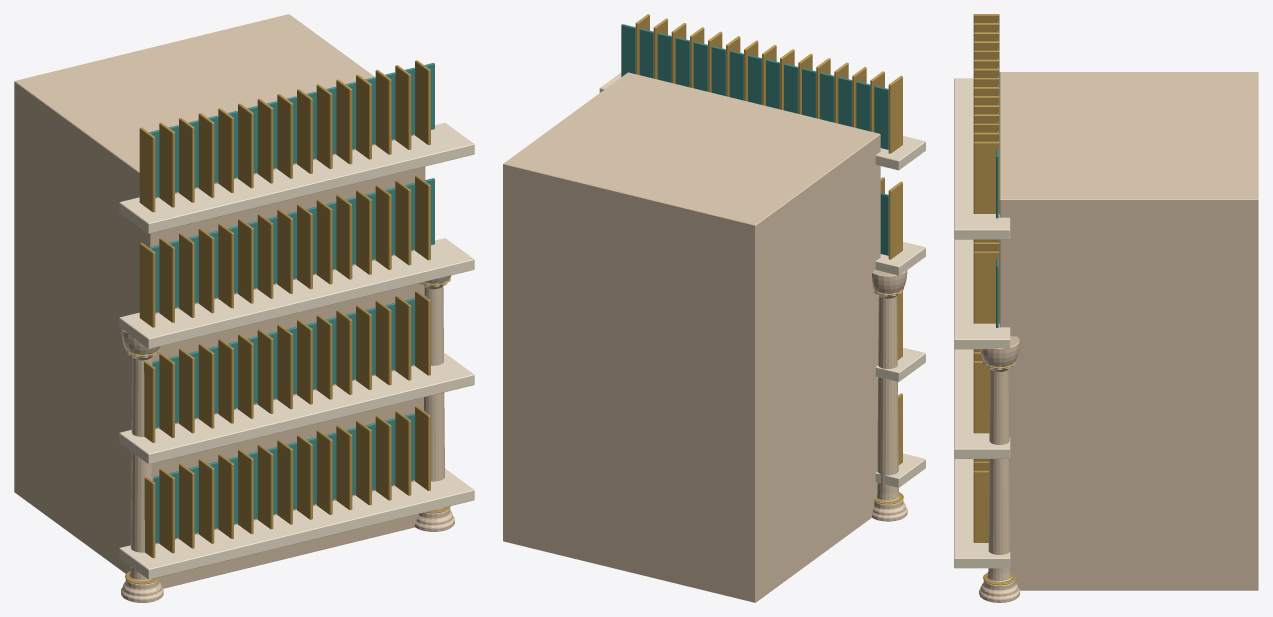
File: complex-frontage.glb
The picture shows the model from 3 angles, left to right: view 1: azimuth 30°, elevation 25°; view 2: azimuth 150°, elevation 25°; view 3: azimuth 270°, elevation 25°; orthographic projection. The views are drawn at different scales.
Parts seen in each view (by area): view 1: Preview_complex-frontage; view 2: Preview_complex-frontage; view 3: Preview_complex-frontage.
Part boxes in pixels (box(x1,y1,x2,y2)): Preview_complex-frontage: box(14, 14, 474, 602); Preview_complex-frontage: box(503, 14, 925, 602); Preview_complex-frontage: box(954, 14, 1258, 602).
Size of the model in its own units: 8.35 by 11.35 by 7.05.
